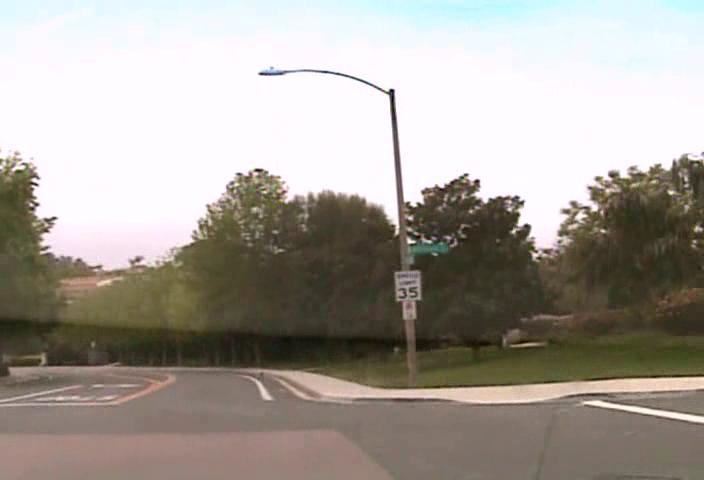speedLimit35: (393, 269, 422, 303)
